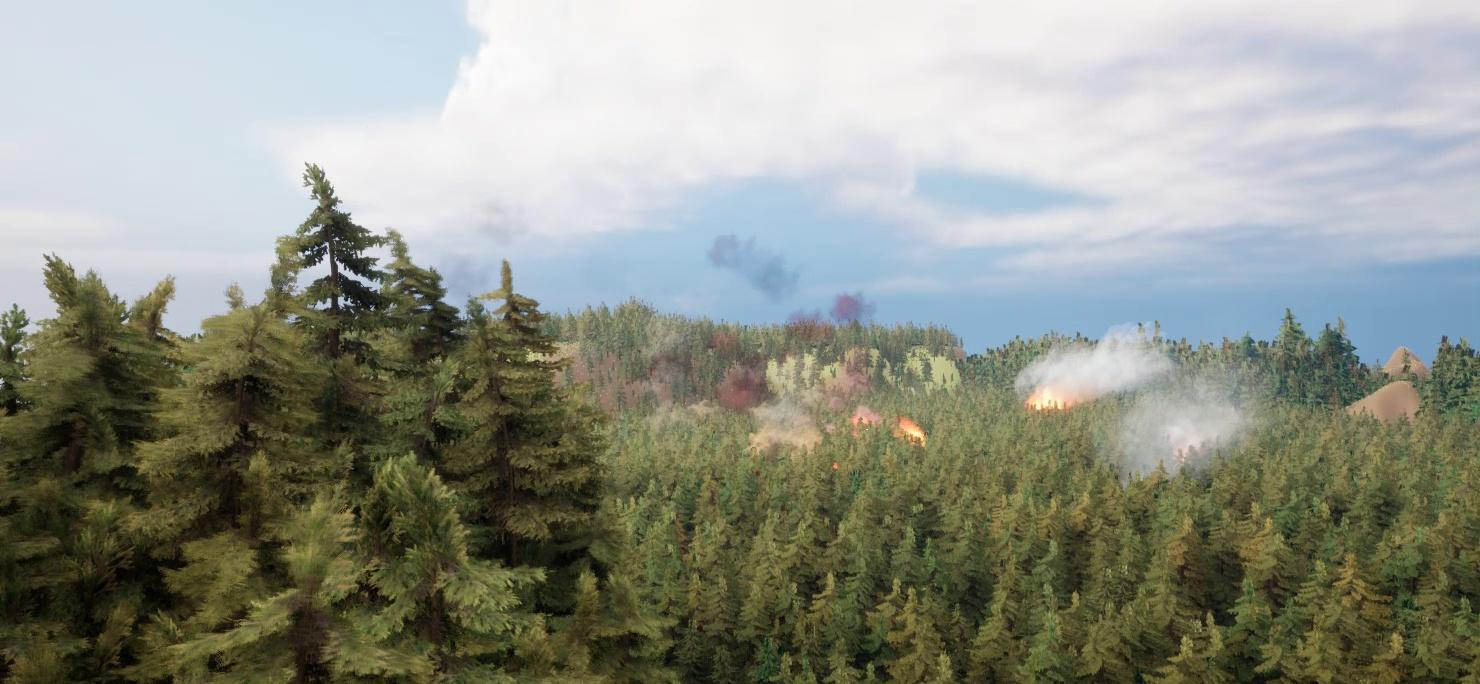fire: (857, 406, 931, 460), (1029, 388, 1075, 406)
smoke: (541, 224, 895, 409), (1095, 386, 1254, 491), (1018, 324, 1175, 417)
